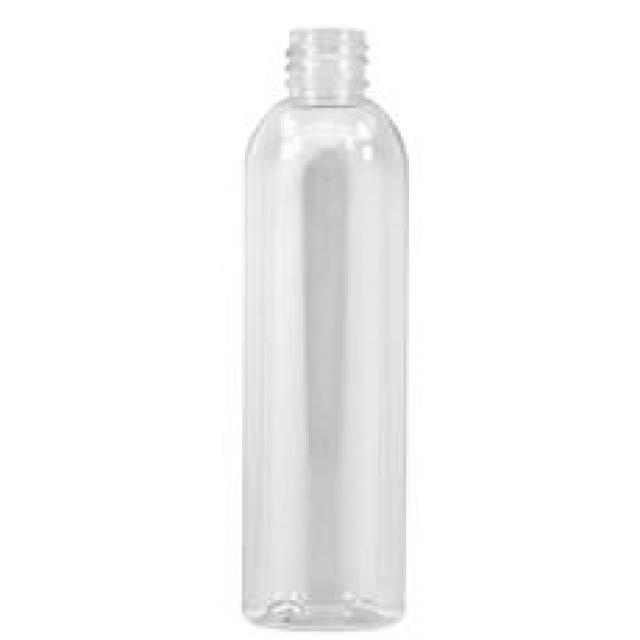plastic_bottle: (240, 27, 410, 630)
